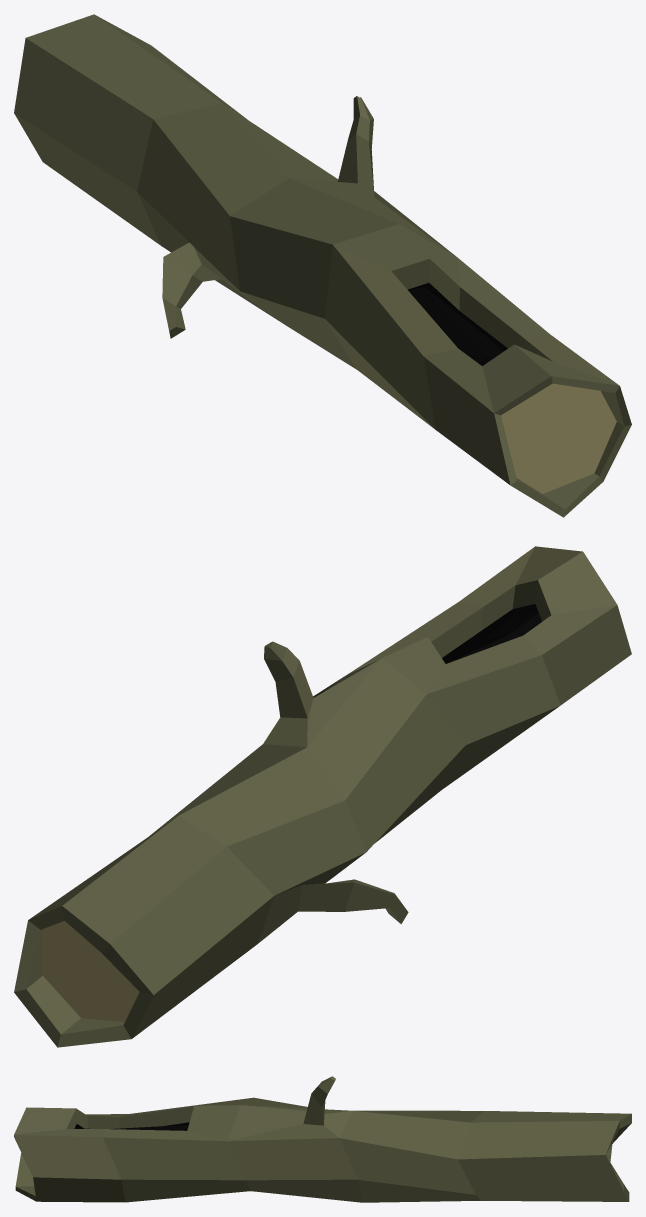
The model's file is trunk2.fbx.
The picture shows the model from 3 angles, top to bottom: view 1: azimuth 30°, elevation 25°; view 2: azimuth 150°, elevation 25°; view 3: azimuth 270°, elevation 25°; orthographic projection. The views are drawn at different scales.
Parts seen in each view (by area): view 1: Cylinder; view 2: Cylinder; view 3: Cylinder.
Part boxes in pixels (x1=…): Cylinder: x1=14, y1=14, x2=631, y2=517; Cylinder: x1=14, y1=546, x2=631, y2=1047; Cylinder: x1=14, y1=1076, x2=631, y2=1202.
Bounding box in the file's own units: 44.53 × 50.69 × 208.
